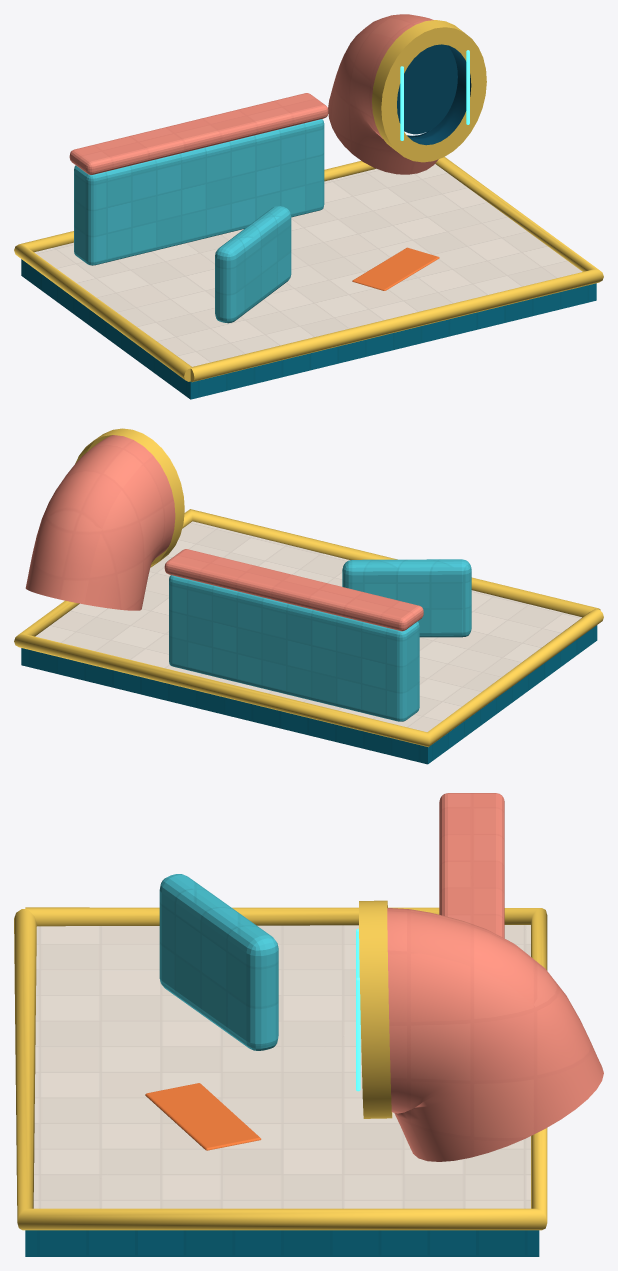
Rendered from twin_bays_art_v4_hero_kit.glb.
The picture shows the model from 3 angles, top to bottom: view 1: azimuth 30°, elevation 25°; view 2: azimuth 150°, elevation 25°; view 3: azimuth 270°, elevation 25°; orthographic projection. The views are drawn at different scales.
Parts seen in each view (by area): view 1: Hero_TBSA_DryCream, Hero_TBSA_Cyan, Hero_TBSA_SafetyYellow, Hero_TBSA_CoralSoft, Hero_TBSA_CyanDark, Hero_TBSA_PortalRecess, Hero_TBSA_PickupOrange, Hero_TBSA_PortalCyan; view 2: Hero_TBSA_Cyan, Hero_TBSA_CoralSoft, Hero_TBSA_DryCream, Hero_TBSA_SafetyYellow, Hero_TBSA_CyanDark; view 3: Hero_TBSA_DryCream, Hero_TBSA_CoralSoft, Hero_TBSA_SafetyYellow, Hero_TBSA_Cyan, Hero_TBSA_CyanDark, Hero_TBSA_PickupOrange, Hero_TBSA_PortalCyan.
Boxes of the visible parts, x1=… form: Hero_TBSA_DryCream: x1=34, y1=164, x2=582, y2=366; Hero_TBSA_Cyan: x1=74, y1=119, x2=324, y2=323; Hero_TBSA_SafetyYellow: x1=14, y1=20, x2=603, y2=382; Hero_TBSA_CoralSoft: x1=69, y1=14, x2=438, y2=174; Hero_TBSA_CyanDark: x1=21, y1=259, x2=596, y2=399; Hero_TBSA_PortalRecess: x1=397, y1=44, x2=471, y2=145; Hero_TBSA_PickupOrange: x1=352, y1=247, x2=439, y2=290; Hero_TBSA_PortalCyan: x1=400, y1=50, x2=469, y2=140; Hero_TBSA_Cyan: x1=169, y1=559, x2=471, y2=721; Hero_TBSA_CoralSoft: x1=25, y1=435, x2=423, y2=631; Hero_TBSA_DryCream: x1=35, y1=521, x2=581, y2=731; Hero_TBSA_SafetyYellow: x1=14, y1=428, x2=603, y2=747; Hero_TBSA_CyanDark: x1=21, y1=625, x2=597, y2=764; Hero_TBSA_DryCream: x1=33, y1=925, x2=530, y2=1208; Hero_TBSA_CoralSoft: x1=387, y1=793, x2=603, y2=1161; Hero_TBSA_SafetyYellow: x1=14, y1=900, x2=547, y2=1230; Hero_TBSA_Cyan: x1=159, y1=874, x2=278, y2=1050; Hero_TBSA_CyanDark: x1=25, y1=1230, x2=539, y2=1256; Hero_TBSA_PickupOrange: x1=145, y1=1083, x2=261, y2=1150; Hero_TBSA_PortalCyan: x1=356, y1=928, x2=360, y2=1091.
Bounding box in the file's own units: 18.5 × 8.68 × 14.93.
Materials: 8 (4 with a texture image).
